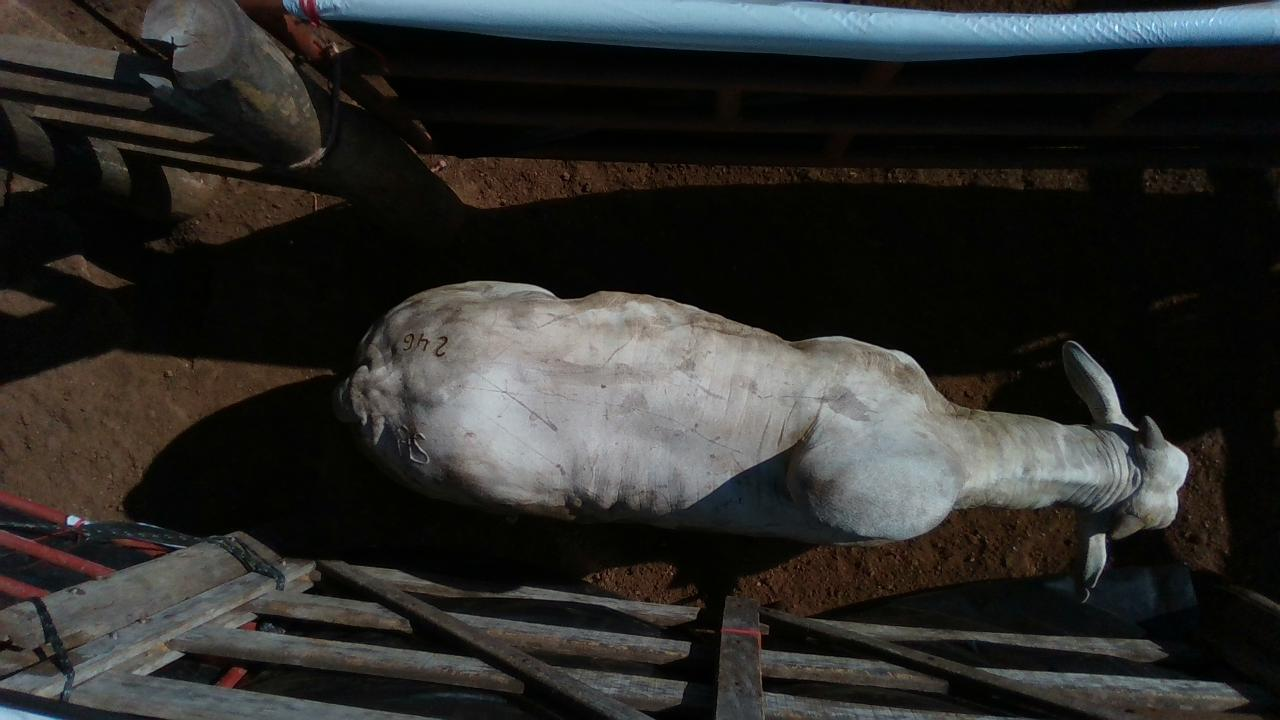cattle: (331, 277, 1191, 598)
